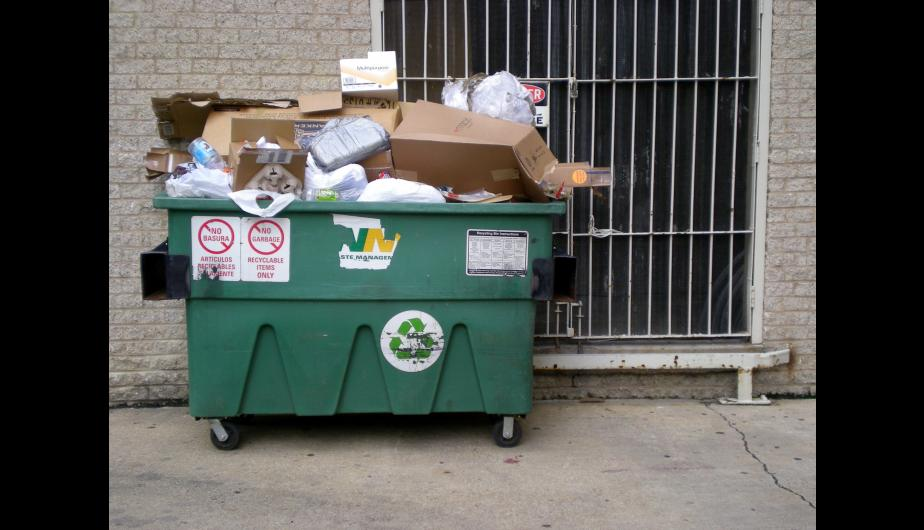Dumpster: (124, 168, 593, 468)
